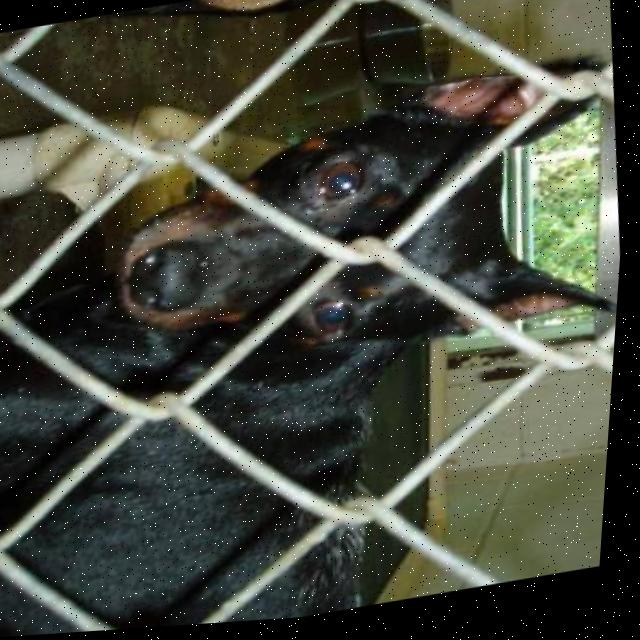dogs: (0, 51, 636, 640)
